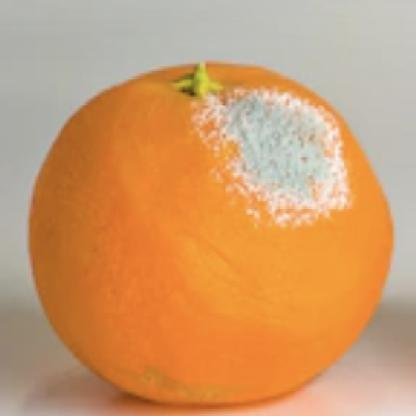rotten: (30, 62, 395, 409)
